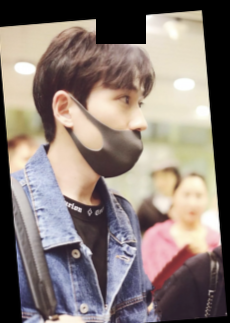mask_weared_incorrect: (71, 92, 148, 177)
